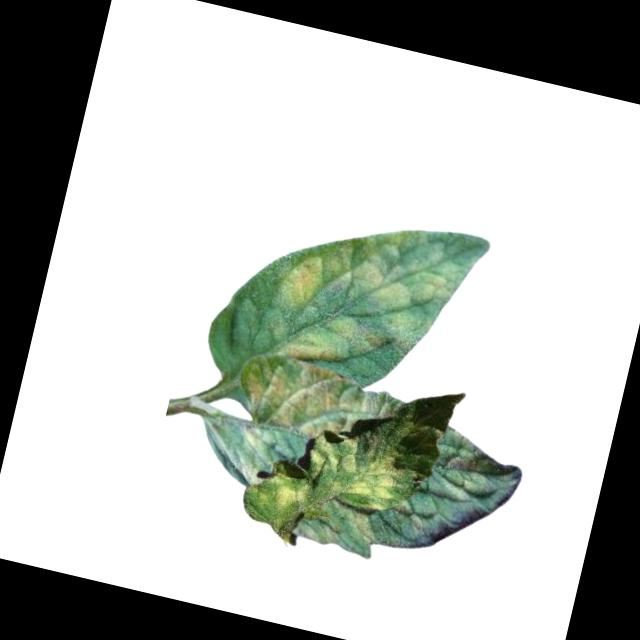Leaf_Mold: (320, 209, 465, 341), (227, 348, 405, 454), (293, 436, 409, 519), (278, 302, 386, 376), (269, 244, 327, 321), (253, 468, 314, 522)
